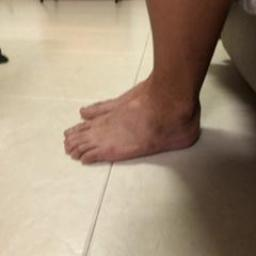Lateral View -Left Foot-: (47, 62, 222, 178)
